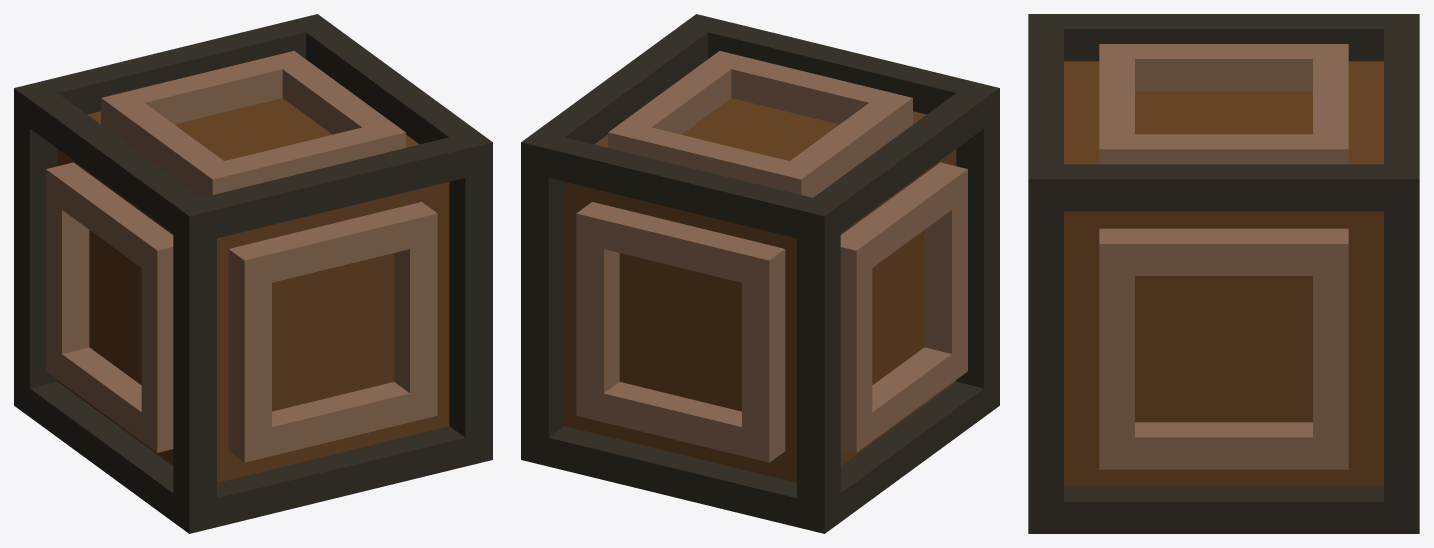
The model's file is Medieval Assets-141-Decoration - Box - Variant3.obj.
3 views of the same model, side by side, from view 1: azimuth 30°, elevation 25°; view 2: azimuth 150°, elevation 25°; view 3: azimuth 270°, elevation 25° (orthographic). The views are drawn at different scales.
Visible parts, largest first — view 1: Decoration - Box - Variant3; view 2: Decoration - Box - Variant3; view 3: Decoration - Box - Variant3.
Part boxes in pixels (left/top/right/bottom): Decoration - Box - Variant3: left=14, top=14, right=492, bottom=533; Decoration - Box - Variant3: left=521, top=14, right=999, bottom=533; Decoration - Box - Variant3: left=1028, top=14, right=1419, bottom=533.
Bounding box in the file's own units: 1.1 × 1.1 × 1.1.
Materials: 1 (1 with a texture image).
